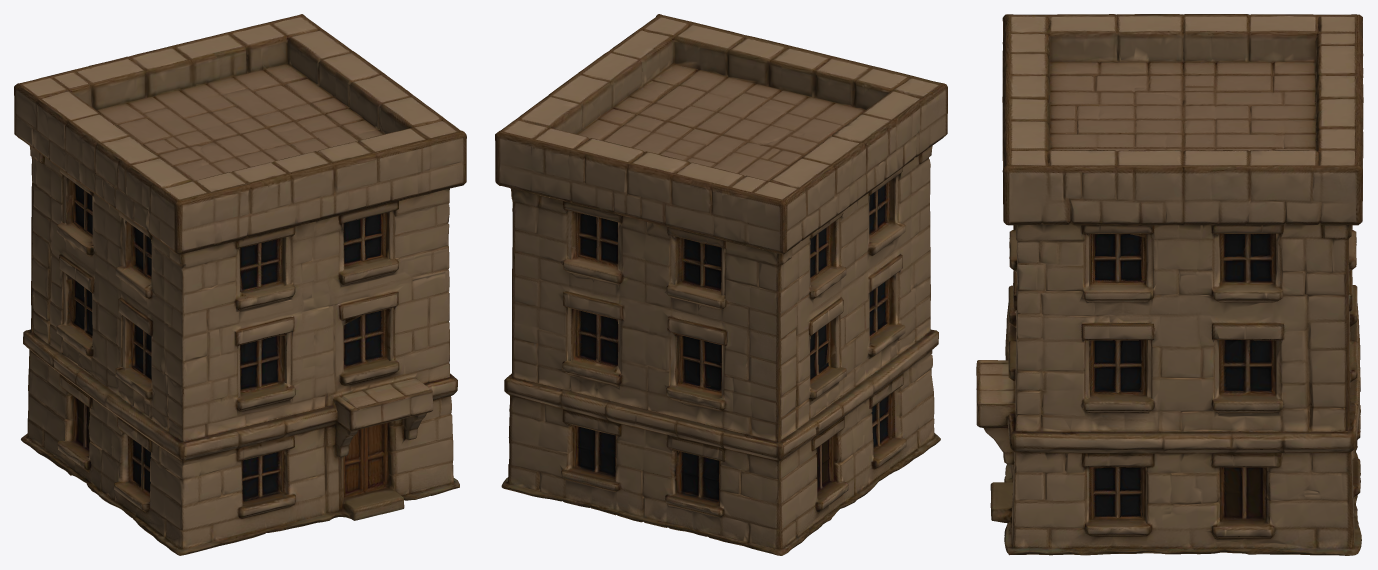
The model's file is building3d7.glb.
3 renders of one model, left to right at view 1: azimuth 30°, elevation 25°; view 2: azimuth 150°, elevation 25°; view 3: azimuth 270°, elevation 25°, orthographic. The views are drawn at different scales.
Parts seen in each view (by area): view 1: tripo_node_b4d1a53d-d94e-47b5-b496-41c571dfff50; view 2: tripo_node_b4d1a53d-d94e-47b5-b496-41c571dfff50; view 3: tripo_node_b4d1a53d-d94e-47b5-b496-41c571dfff50.
Boxes of the visible parts, x1,y1,x2,y2 form: tripo_node_b4d1a53d-d94e-47b5-b496-41c571dfff50: (14, 14, 466, 555); tripo_node_b4d1a53d-d94e-47b5-b496-41c571dfff50: (495, 14, 947, 555); tripo_node_b4d1a53d-d94e-47b5-b496-41c571dfff50: (976, 14, 1363, 555).
Size of the model in its own units: 0.8553 by 1 by 0.8992.
Materials: 1 (1 with a texture image).
